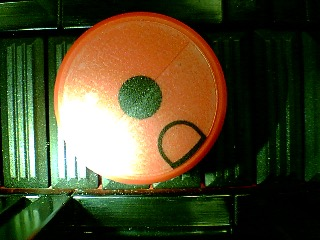BOHOMIPO1: (53, 12, 227, 185)
